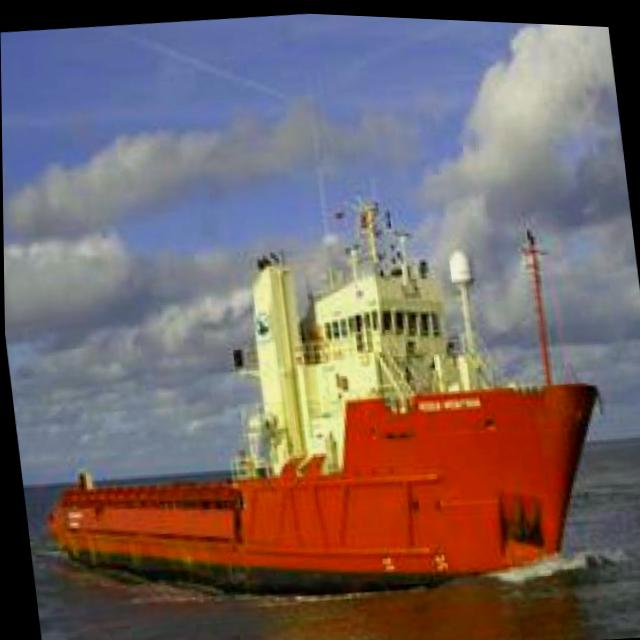ship2: (44, 197, 598, 595)
